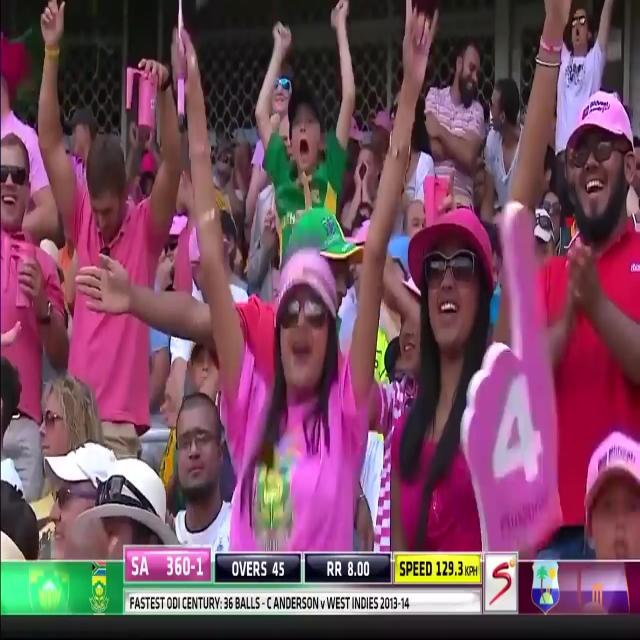Ball: (0, 8, 215, 572)
